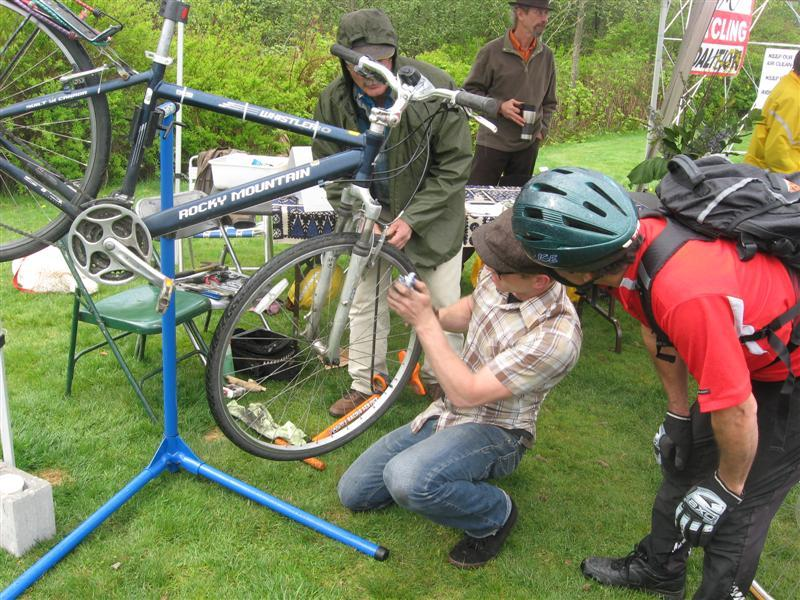person: (335, 203, 580, 575)
